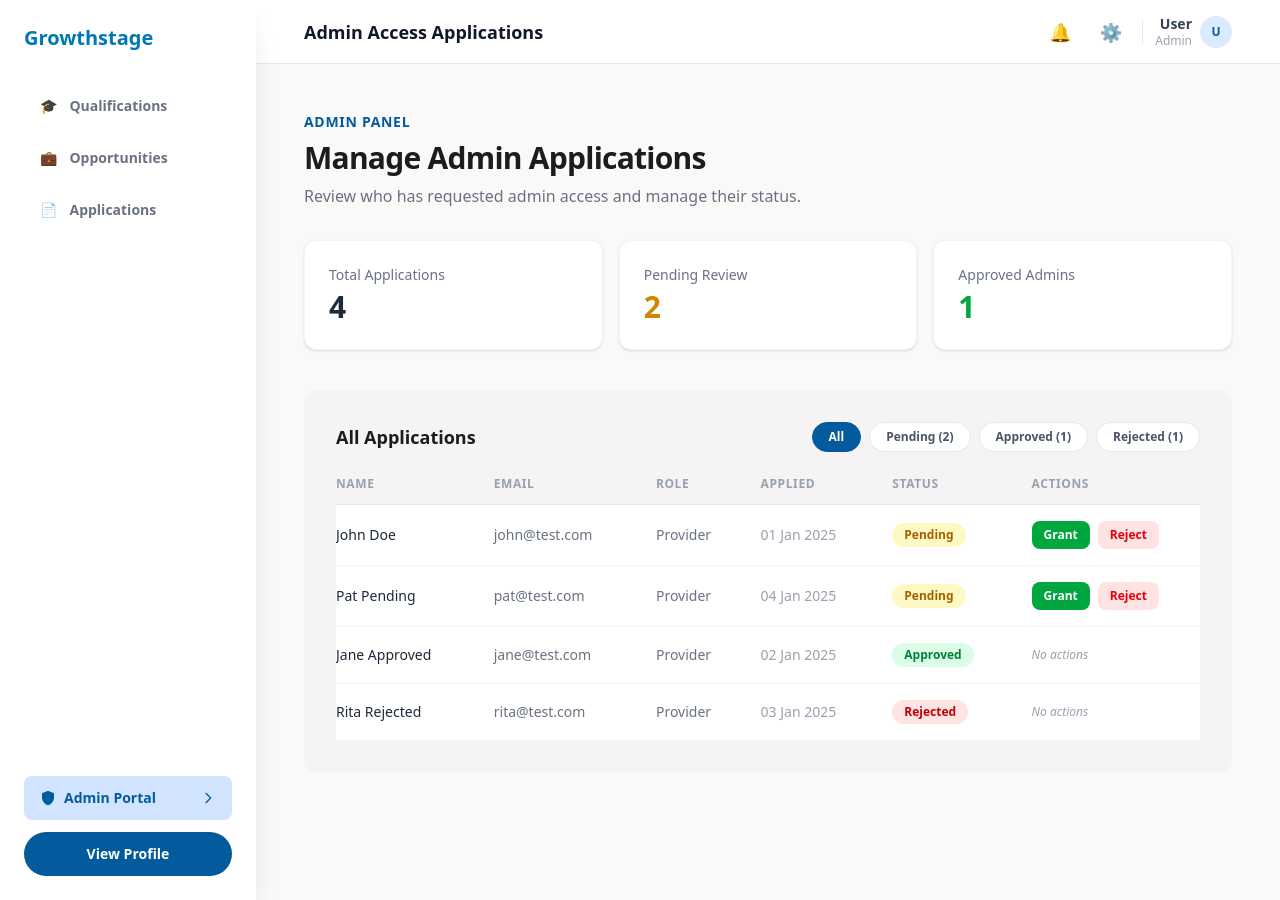
Scenario: AdminAccessApplications › filters rows by status
expect the text "John Doe" is shown: met, box top-left (336, 504), bottom-right (494, 566)
Step 1. Click the button "approved (1)" → (1033, 437), box top-left (978, 422), bottom-right (1088, 452)
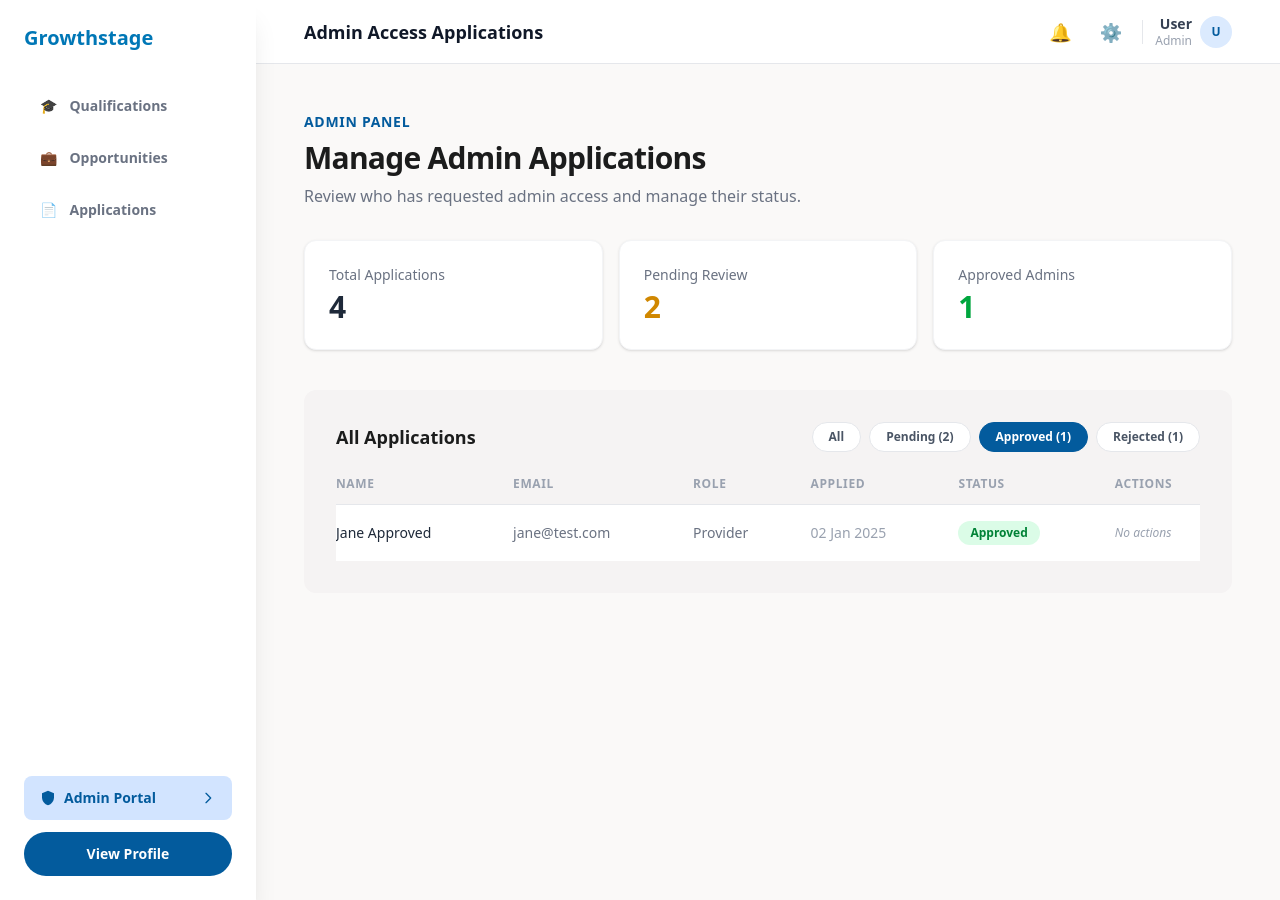
expect the text "Jane Approved" is shown: met, box top-left (336, 504), bottom-right (513, 561)
expect the text "John Doe" is gone: met
Step 2. Click the button "pending (2)" → (920, 437), box top-left (869, 422), bottom-right (970, 452)
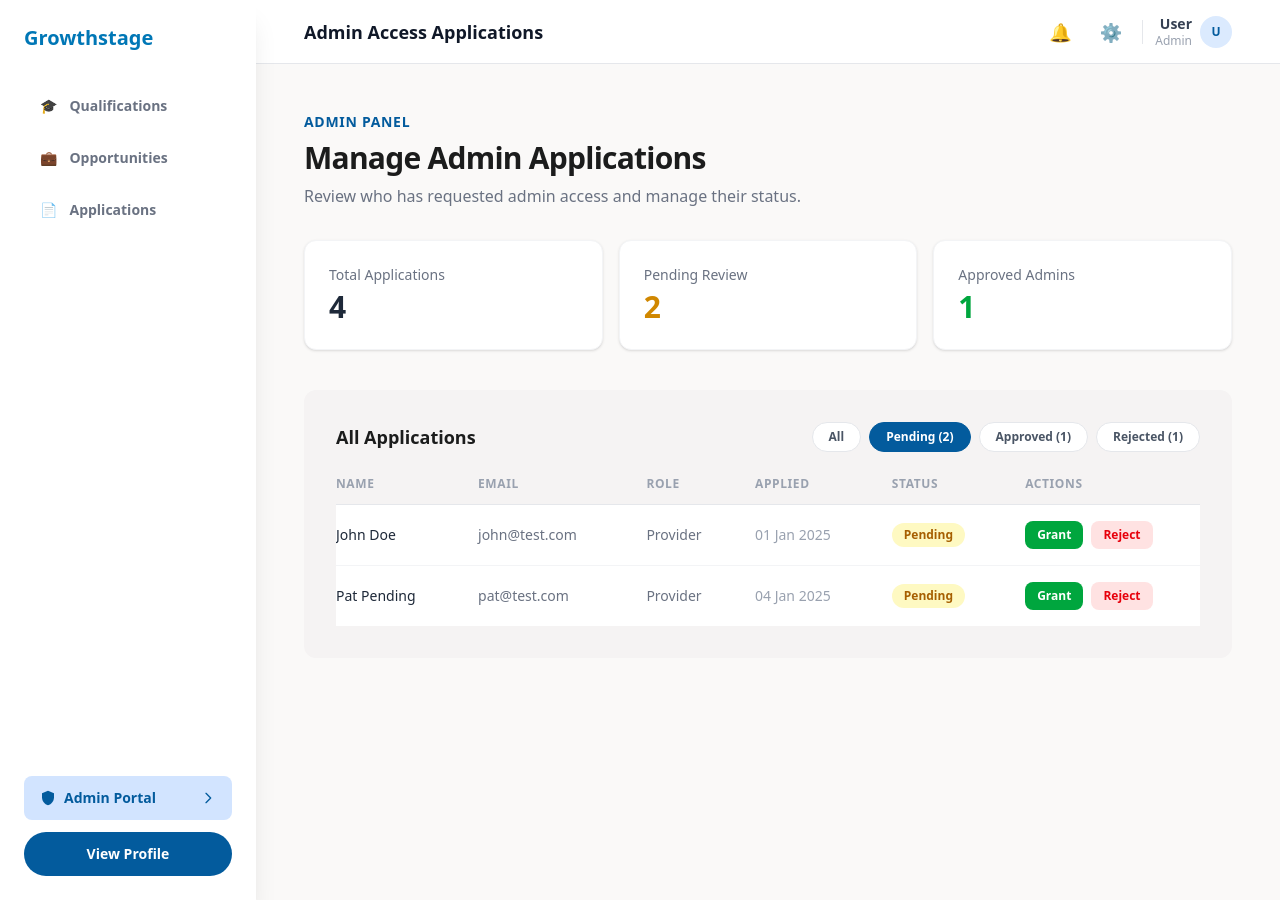
expect the text "John Doe" is shown: met, box top-left (336, 504), bottom-right (478, 566)
Step 3. Click the button "rejected (1)" → (1148, 437), box top-left (1096, 422), bottom-right (1200, 452)
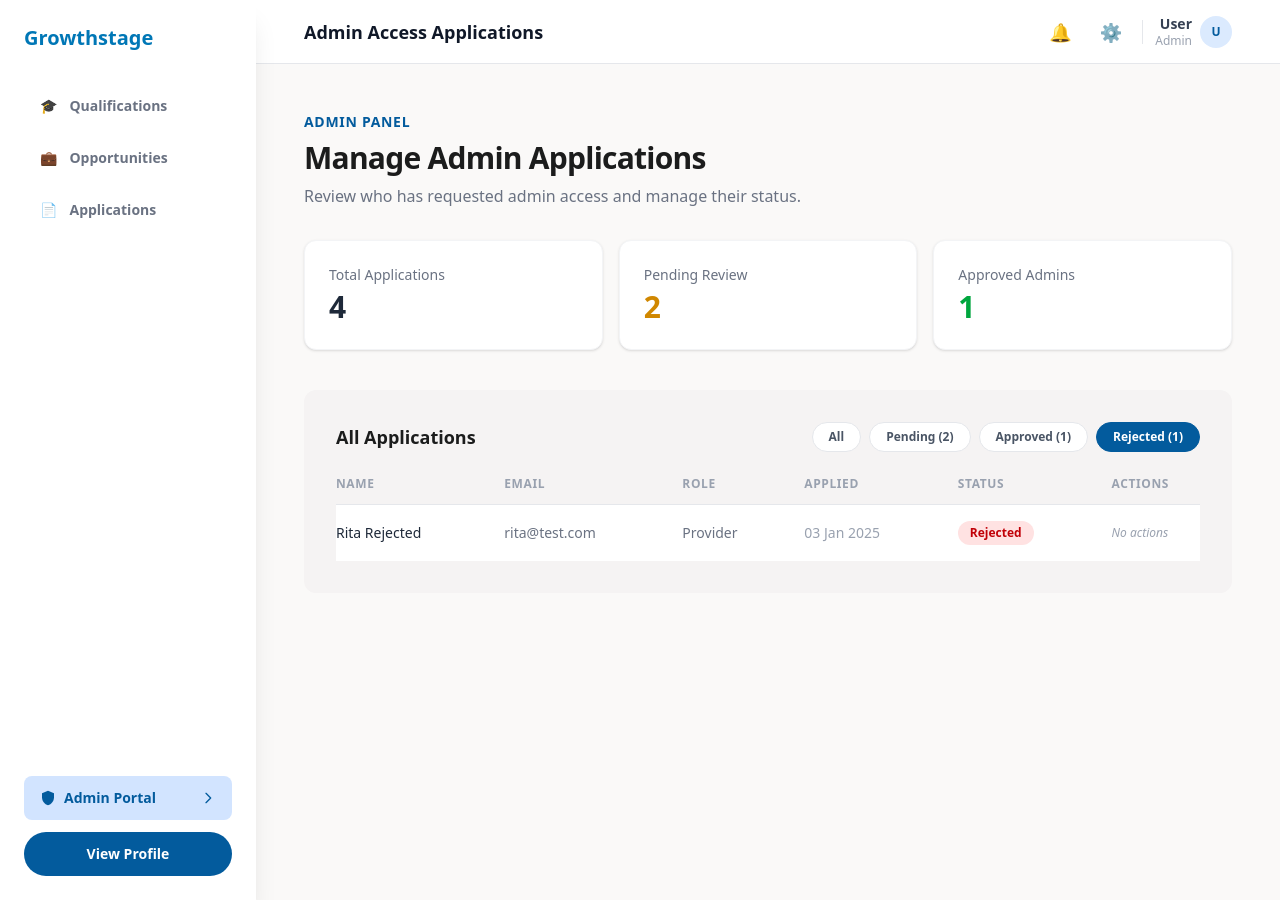
expect the text "Rita Rejected" is shown: met, box top-left (336, 504), bottom-right (504, 561)
